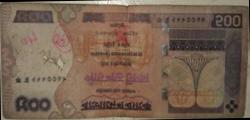500 taka: (1, 4, 245, 119)
